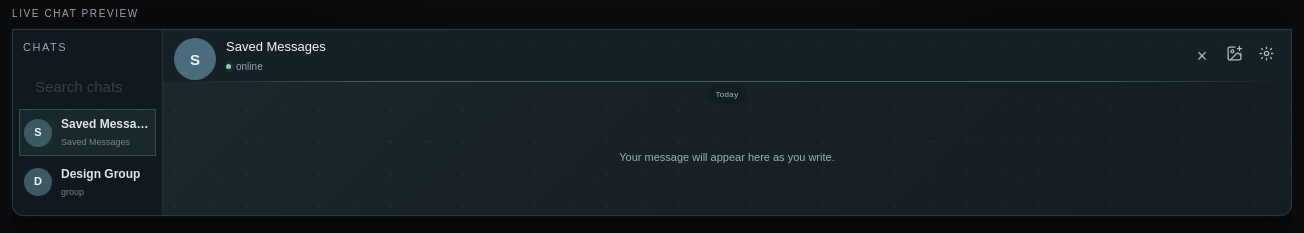
Test case: ChatPreviewStand DOM behavior › closes the open chat list when preview settings opens
The image size is (1304, 233).
Click the button named "Preview settings": (1266, 56) [1252,42,1280,70]
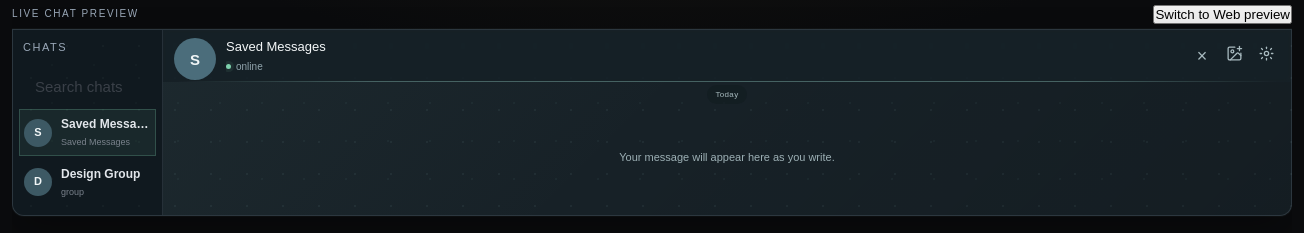
Now the element named "Preview settings" is shown, box [1153,4,1292,24]
